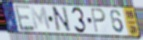3: (70, 6, 87, 34)
6: (110, 10, 125, 34)
E: (13, 4, 36, 32)
M: (29, 6, 53, 33)
N: (51, 6, 73, 33)
P: (90, 8, 108, 35)
